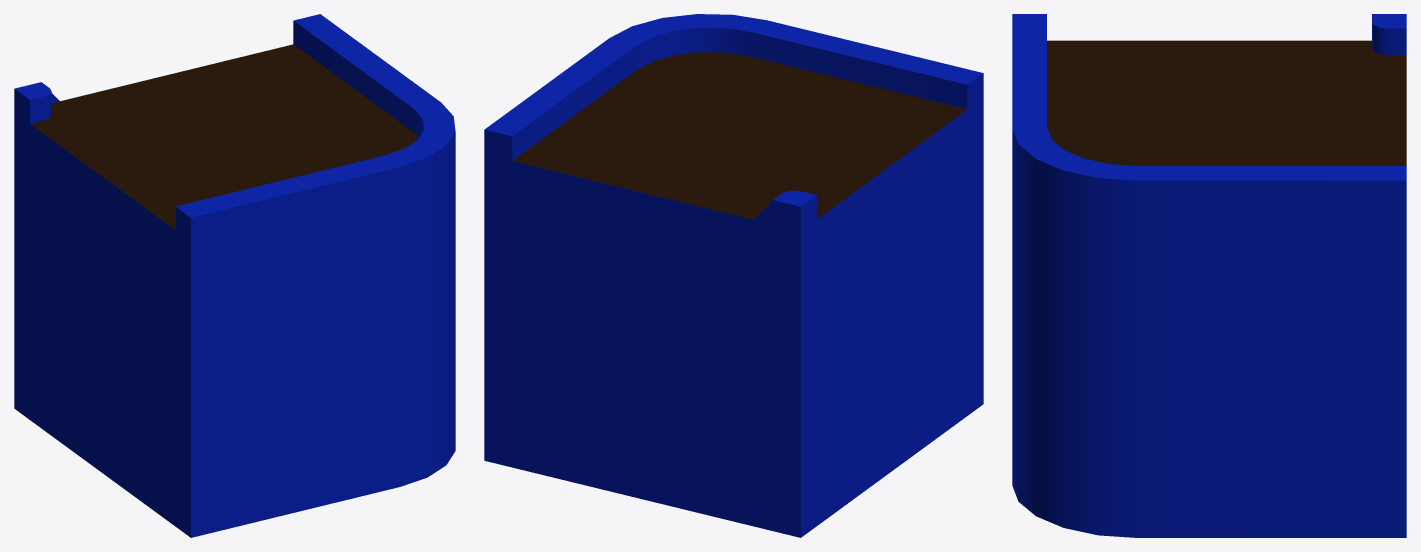
The model's file is bend.fbx.
The picture shows the model from 3 angles, left to right: view 1: azimuth 30°, elevation 25°; view 2: azimuth 150°, elevation 25°; view 3: azimuth 270°, elevation 25°; orthographic projection. The views are drawn at different scales.
Parts seen in each view (by area): view 1: Cube; view 2: Cube; view 3: Cube.
Boxes of the visible parts, <box> form: Cube: <box>14,14,455,537</box>; Cube: <box>484,14,983,537</box>; Cube: <box>1012,14,1406,537</box>.
Size of the model in its own units: 100 by 100 by 100.
